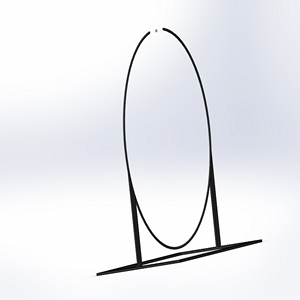circle: (94, 26, 264, 274)
